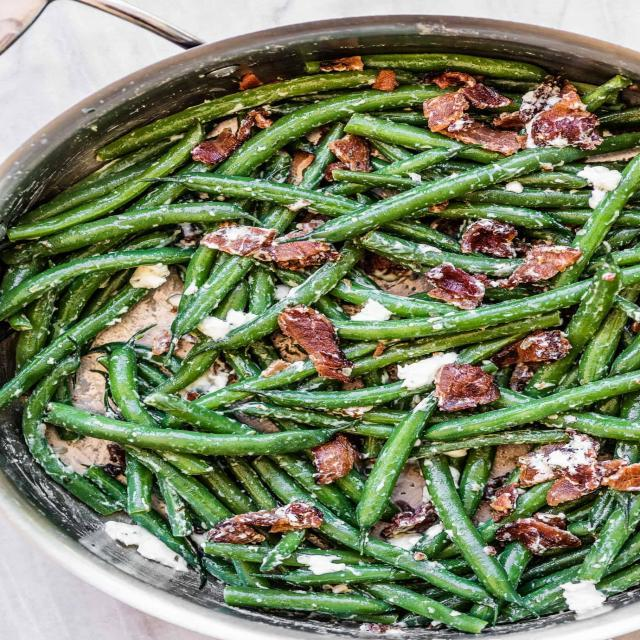Beans: (0, 68, 639, 639)
